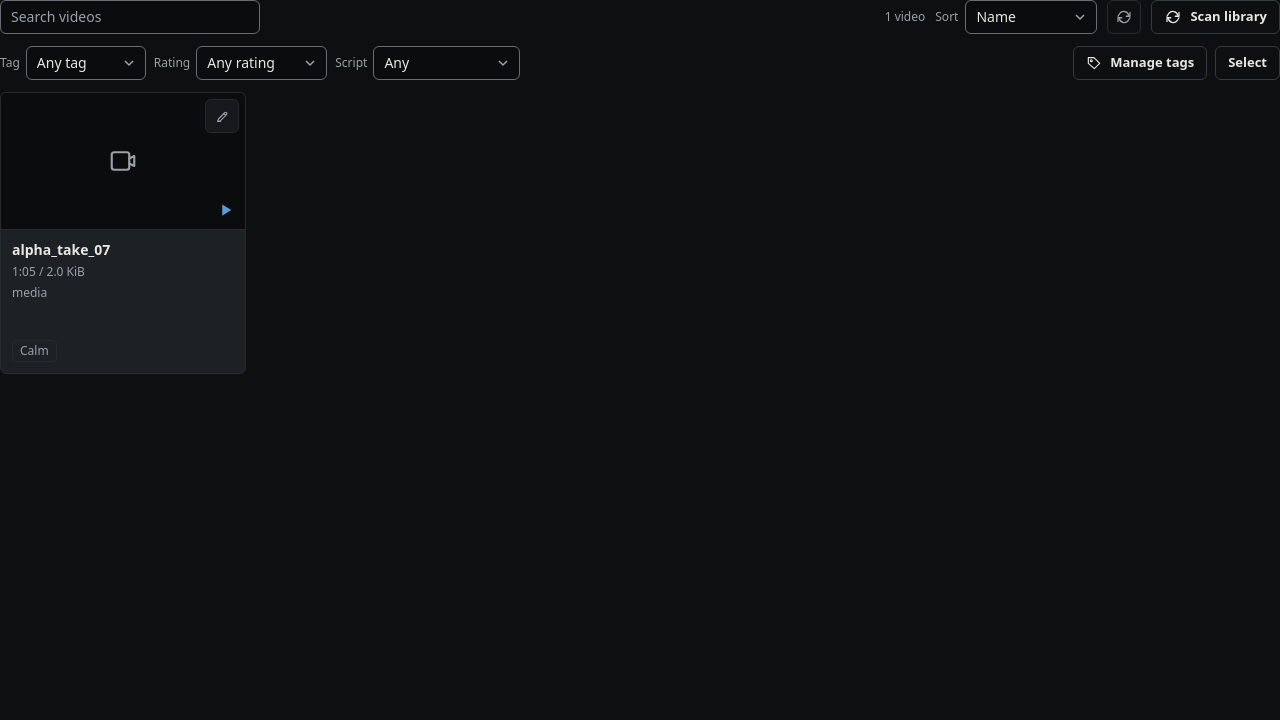
Test case: VideoLibrary curation › edits a video's details and sends only what changed
Click the button named "Edit details for alpha_take_07".
click(222, 116)  # box top-left (205, 99), bottom-right (239, 133)
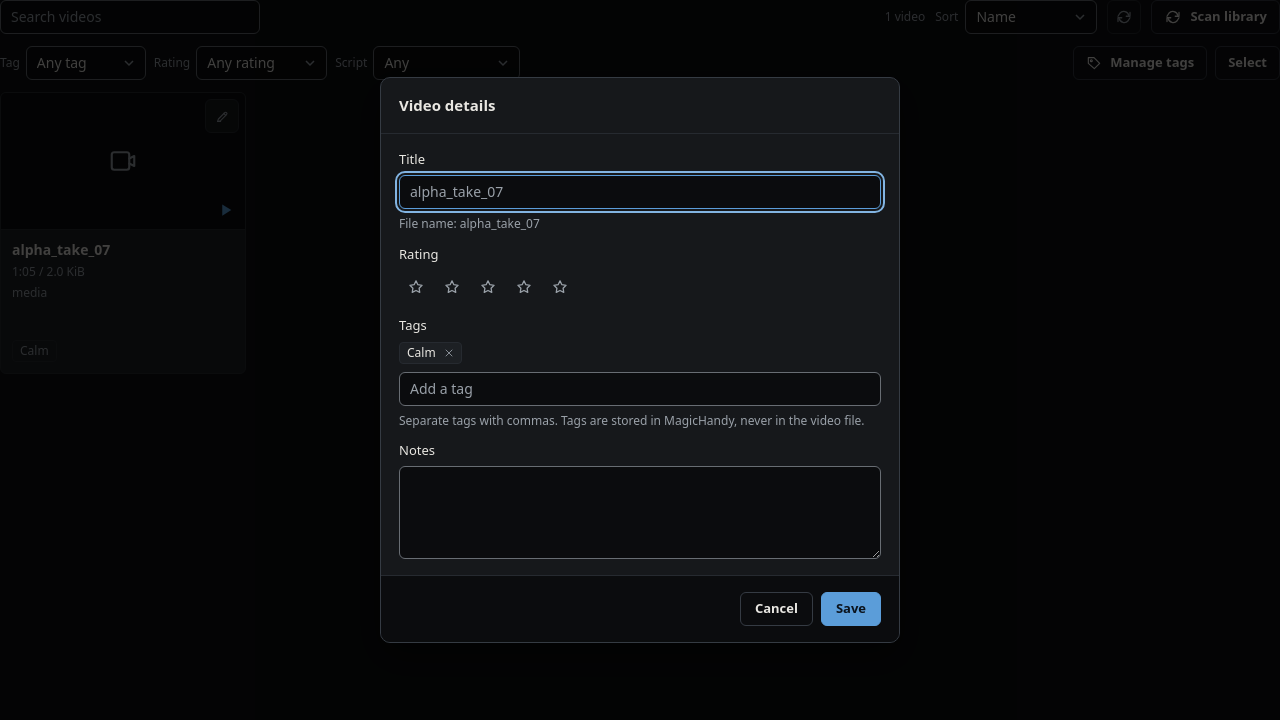
Type "Evening take" into the field labelled "Title".
click(640, 192); type("Evening take")  # box top-left (399, 175), bottom-right (881, 209)
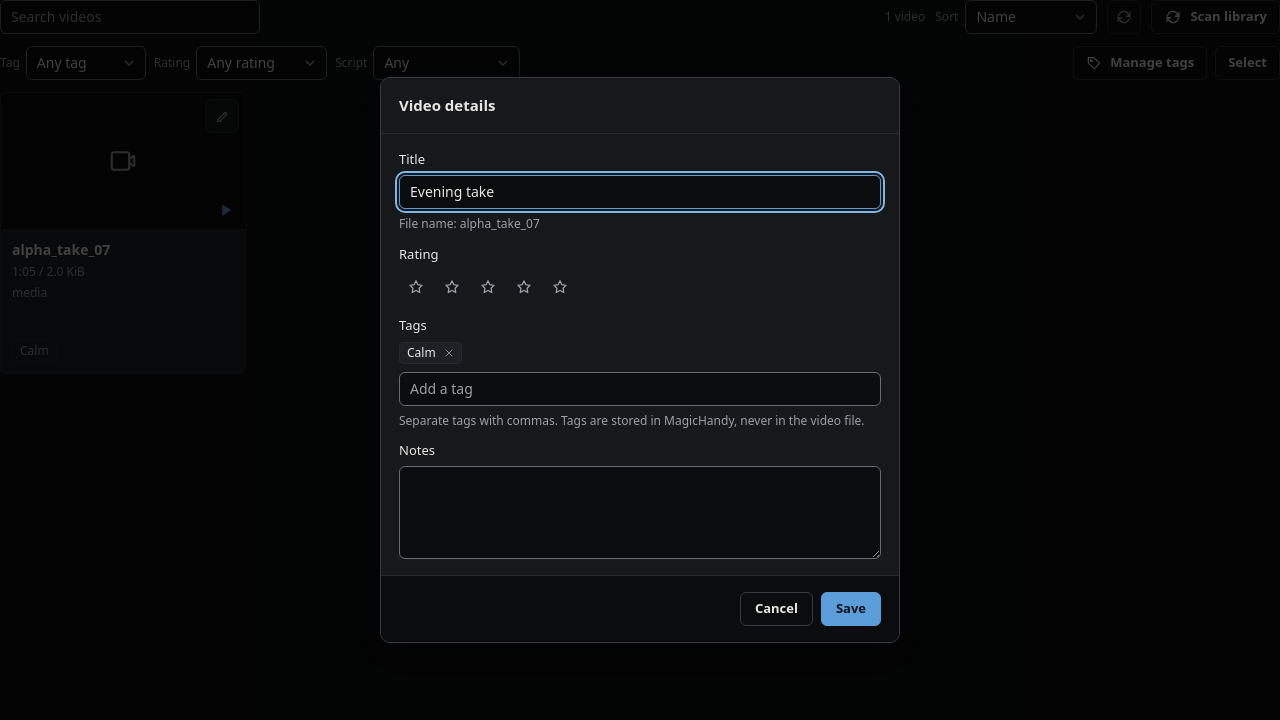
Click the button named "Rate 4 of 5".
click(524, 287)  # box top-left (507, 270), bottom-right (541, 304)
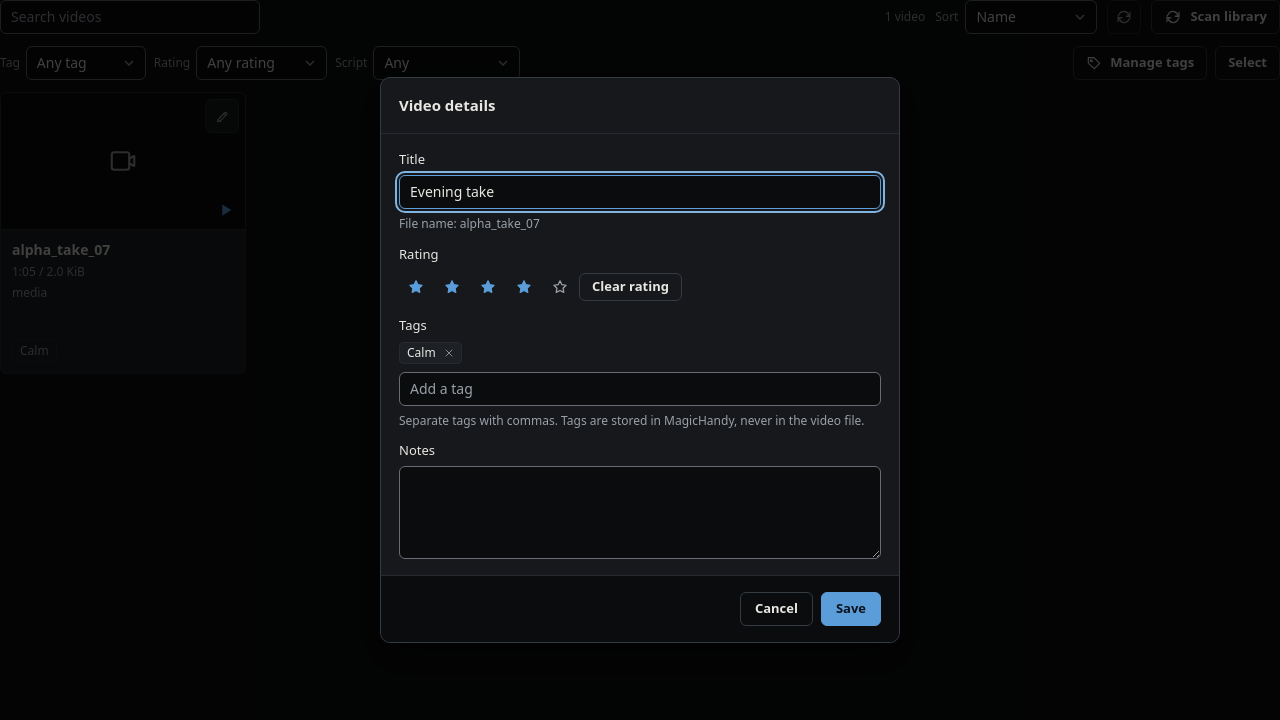
Type "slow build" into the field labelled "Tags".
click(640, 389); type("slow build")  # box top-left (399, 372), bottom-right (881, 406)
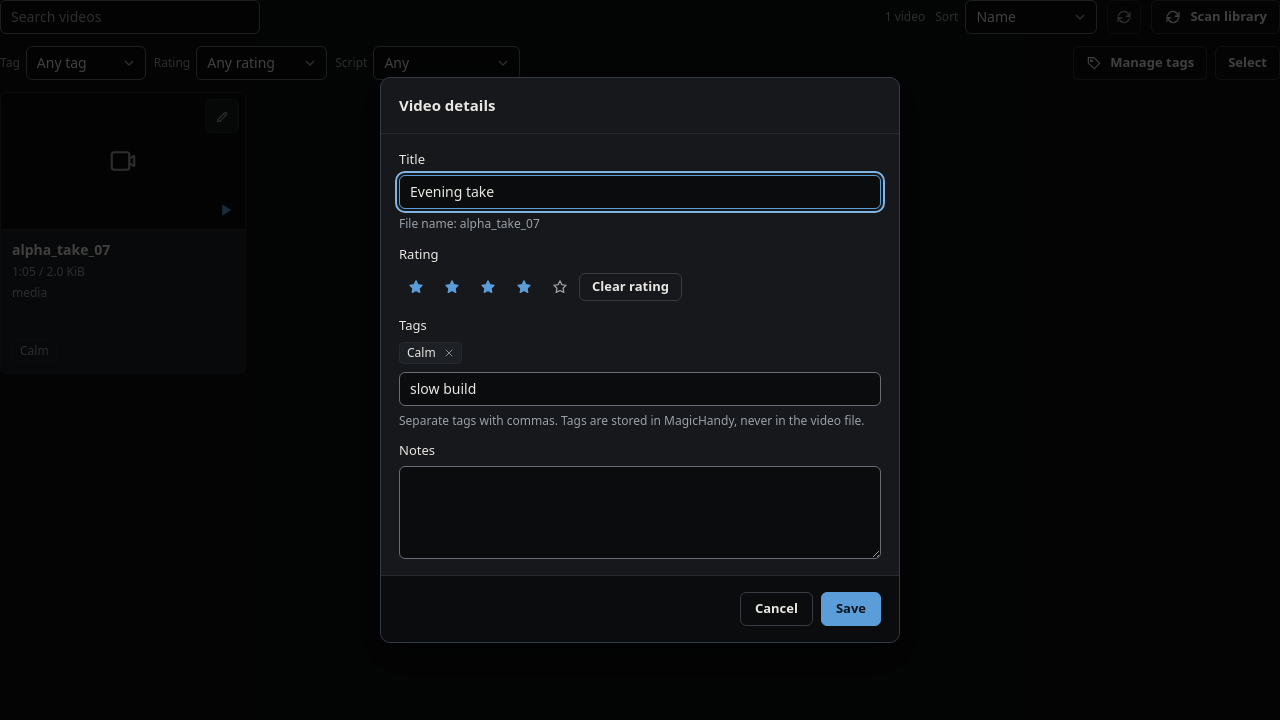
Press Enter in the field labelled "Tags", box top-left (399, 372), bottom-right (881, 406)
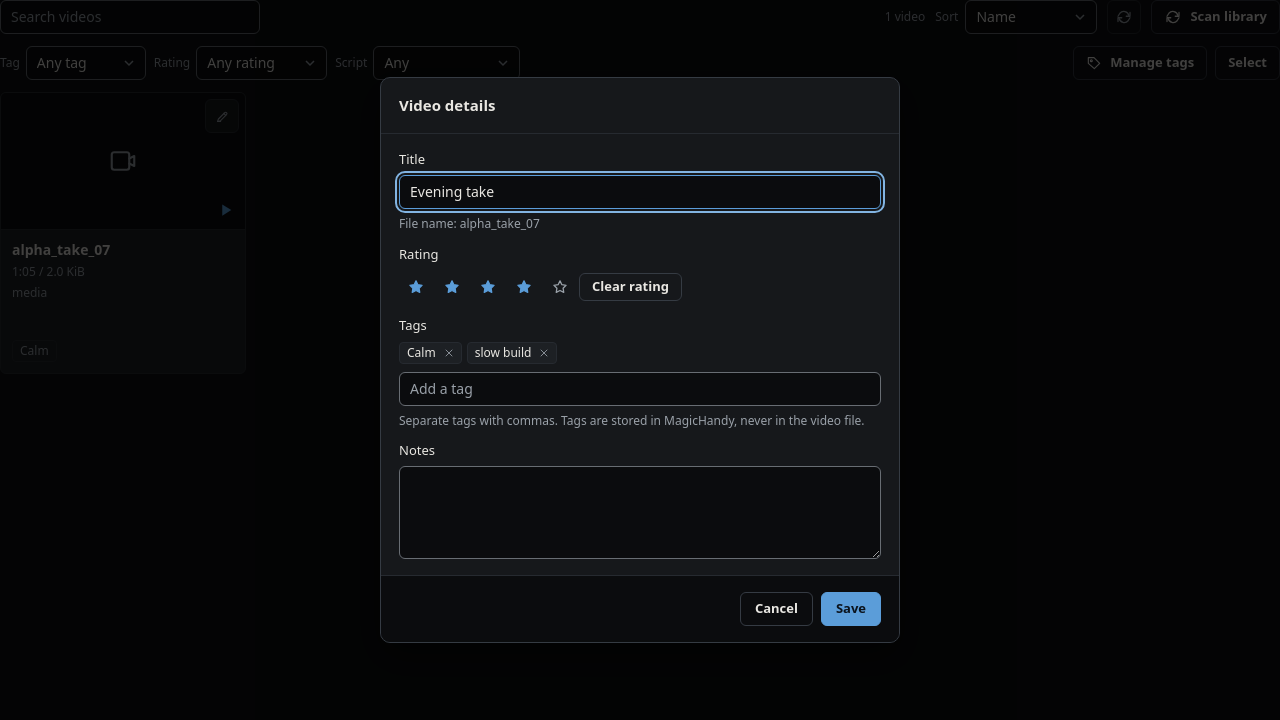
Click the button "Save".
click(851, 609)  # box top-left (821, 592), bottom-right (881, 626)
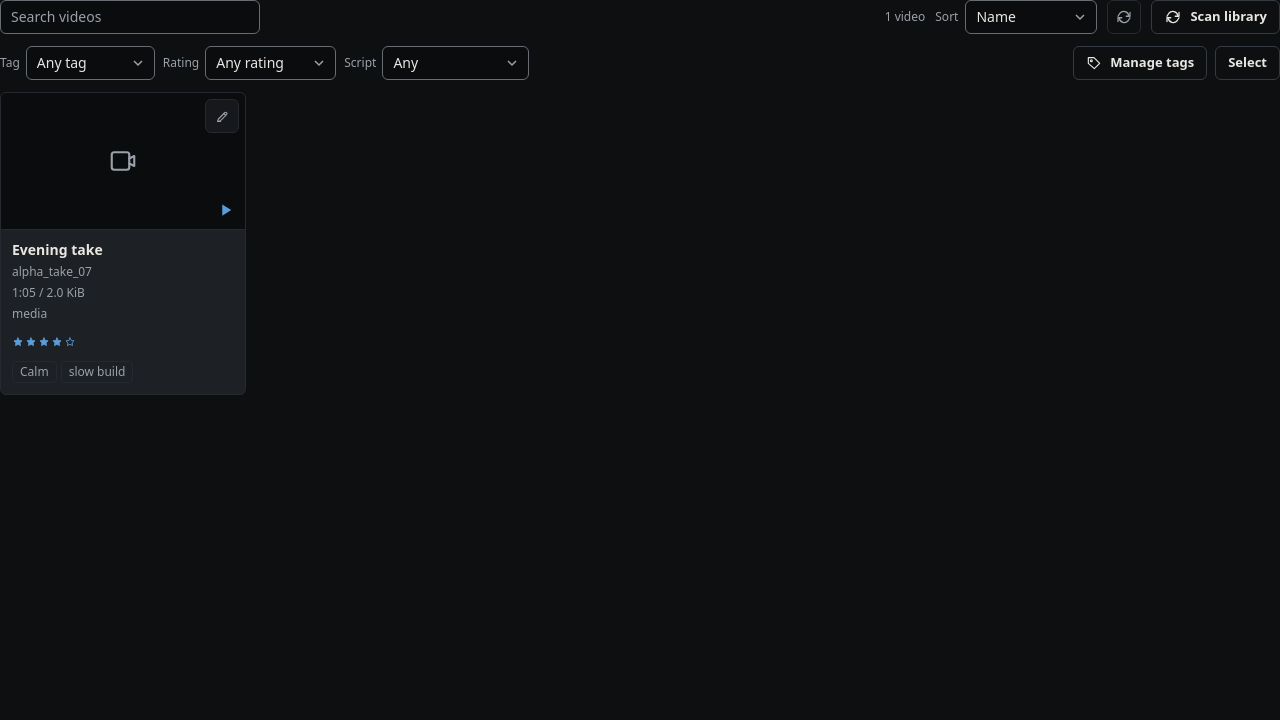
Expected: the button with aria-label "Play Evening take" shows "alpha_take_07", top-left (1, 93), bottom-right (245, 394)
Result: the dialog is gone
